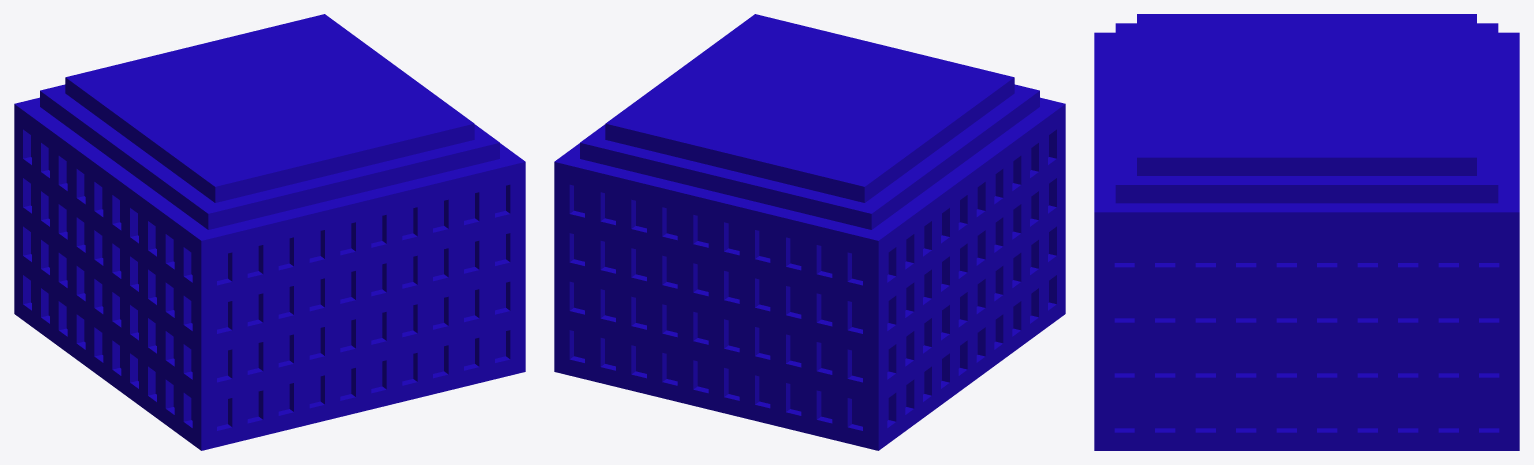
The model's file is blauer_turm.fbx.
3 renders of one model, left to right at view 1: azimuth 30°, elevation 25°; view 2: azimuth 150°, elevation 25°; view 3: azimuth 270°, elevation 25°, orthographic. The views are drawn at different scales.
Visible parts, largest first — view 1: imagetostl_mesh0; view 2: imagetostl_mesh0; view 3: imagetostl_mesh0.
Part boxes in pixels (x1,y1,x2,y2): imagetostl_mesh0: (14,14,525,450); imagetostl_mesh0: (554,14,1065,450); imagetostl_mesh0: (1094,14,1519,450).
Bounding box in the file's own units: 1050 × 750 × 1050.
